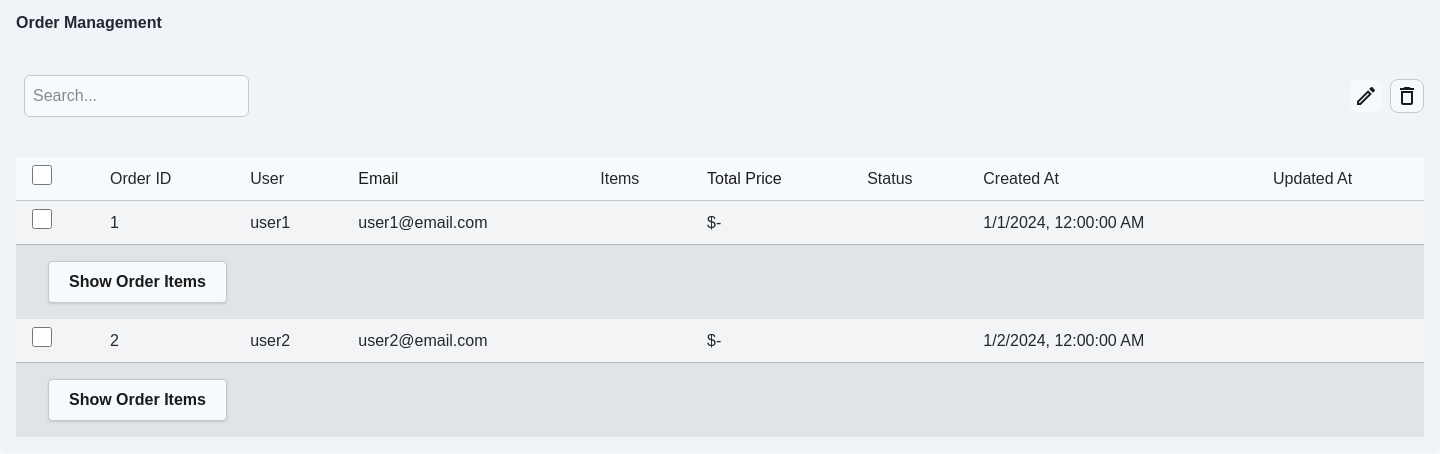
Test case: OrderTable › shows alert if trying to edit with nothing selected
The image size is (1440, 454).
Click the button titled "edit selected order" at point(1366, 96), box [1350,80,1382,112]
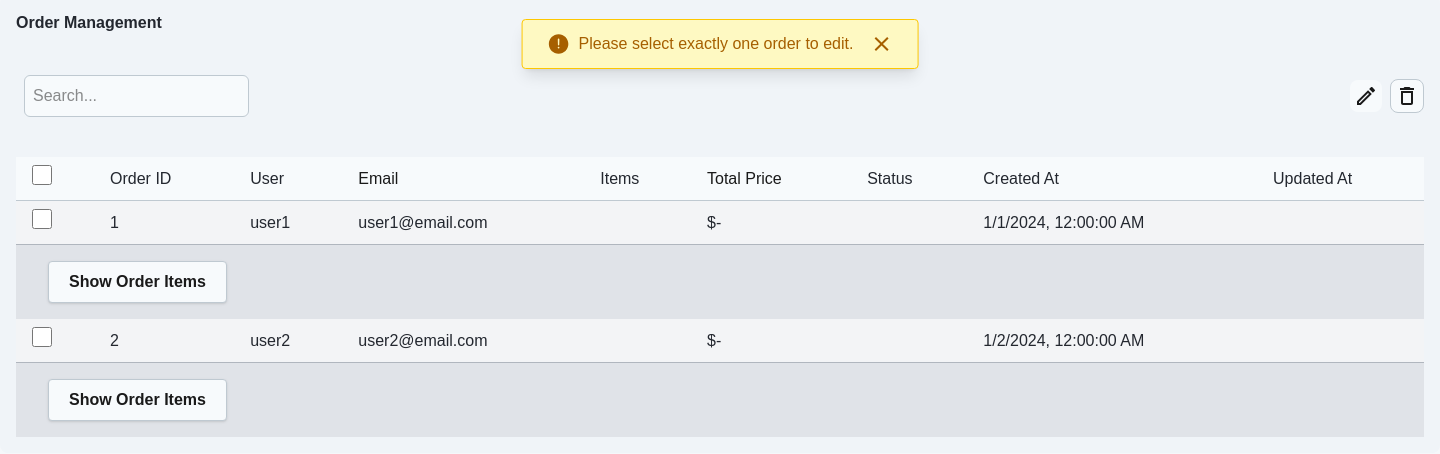
Check: the text "Please select exactly one order to edit." is shown, box [579,32,853,56]
